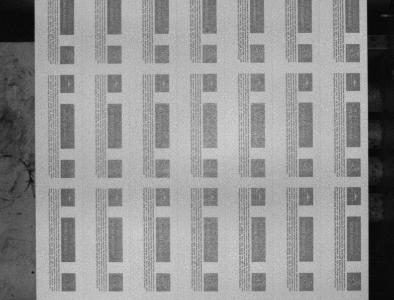backgroundclutter: (31, 271, 35, 274)
